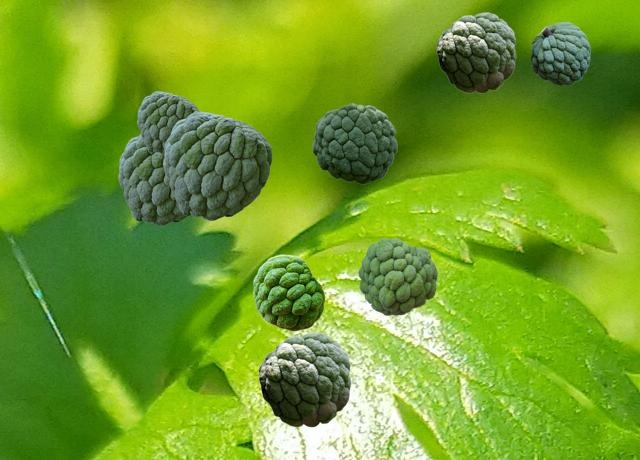atis: (163, 111, 271, 219), (258, 332, 350, 426), (312, 103, 396, 183), (436, 12, 515, 92), (118, 134, 187, 224), (358, 238, 436, 314), (253, 254, 324, 330), (137, 91, 199, 153), (531, 22, 589, 84)
